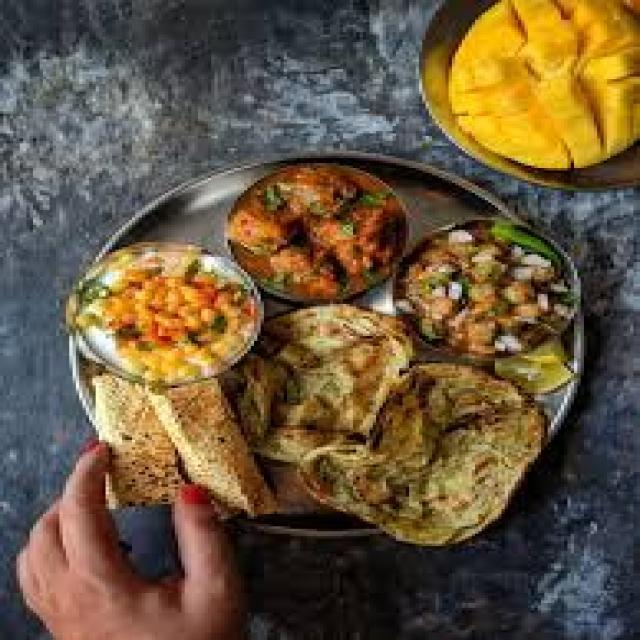roti: (269, 339, 543, 540)
veg-fry: (205, 150, 419, 309), (54, 237, 269, 387)
